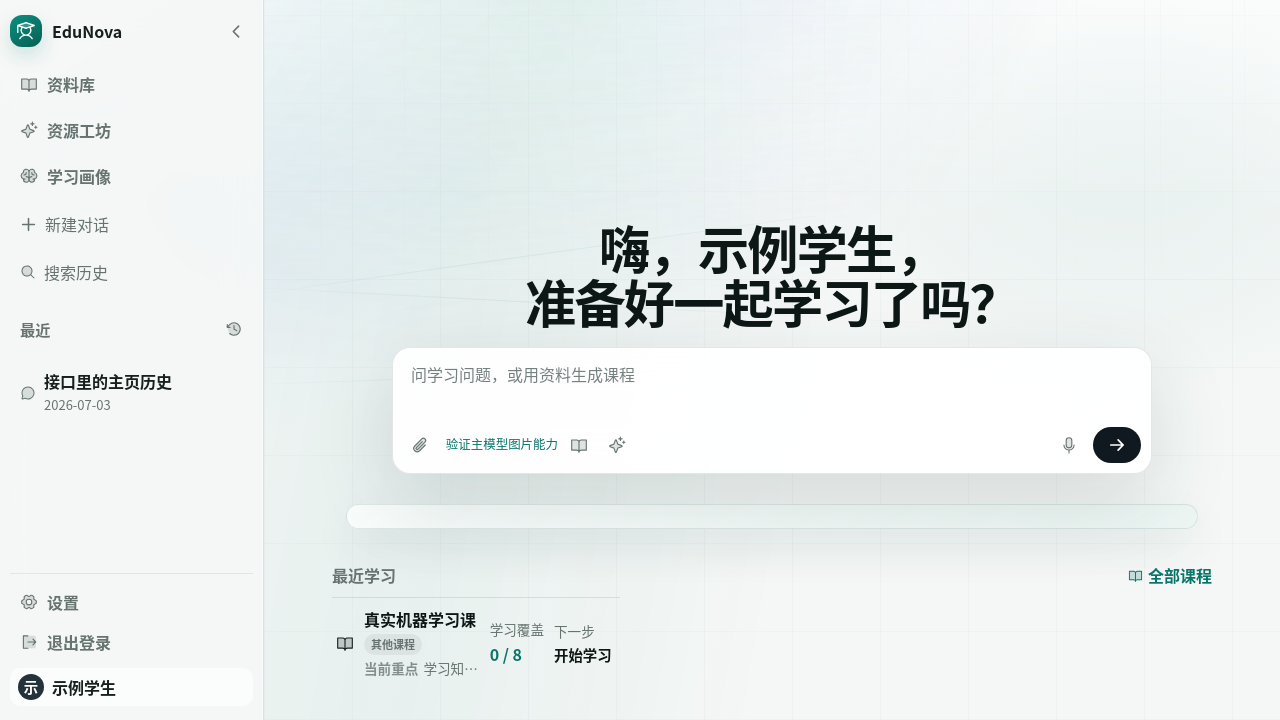
Test: LearningSpacePage › opens the course generation overlay from the home input
Expected: the link "真实机器学习课" is shown, [364,607,480,631]
Click the button named "生成课程" at [617, 444], box [600,430,634,460]
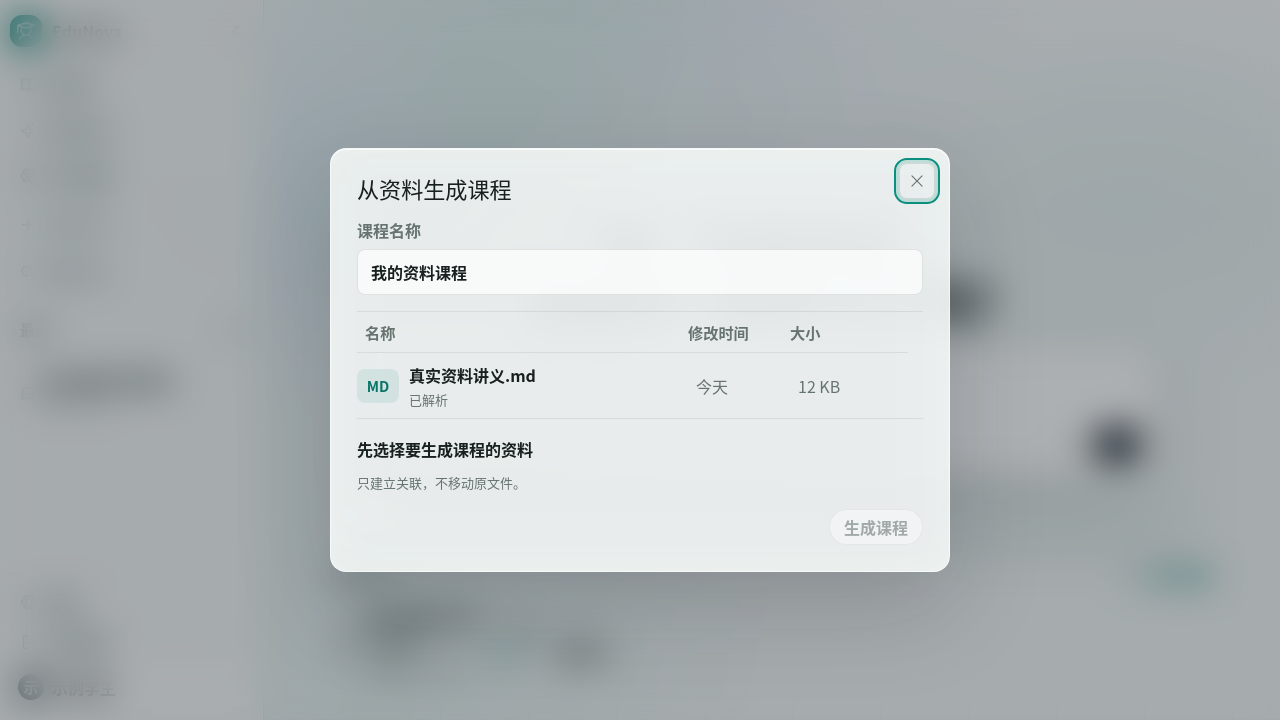
Expected: the dialog "从资料生成课程" is shown
Expected: the field labelled "课程名称" holds "我的资料课程", [357,249,923,295]
Expected: the text "先选择要生成课程的资料" is shown, [357,437,533,461]
